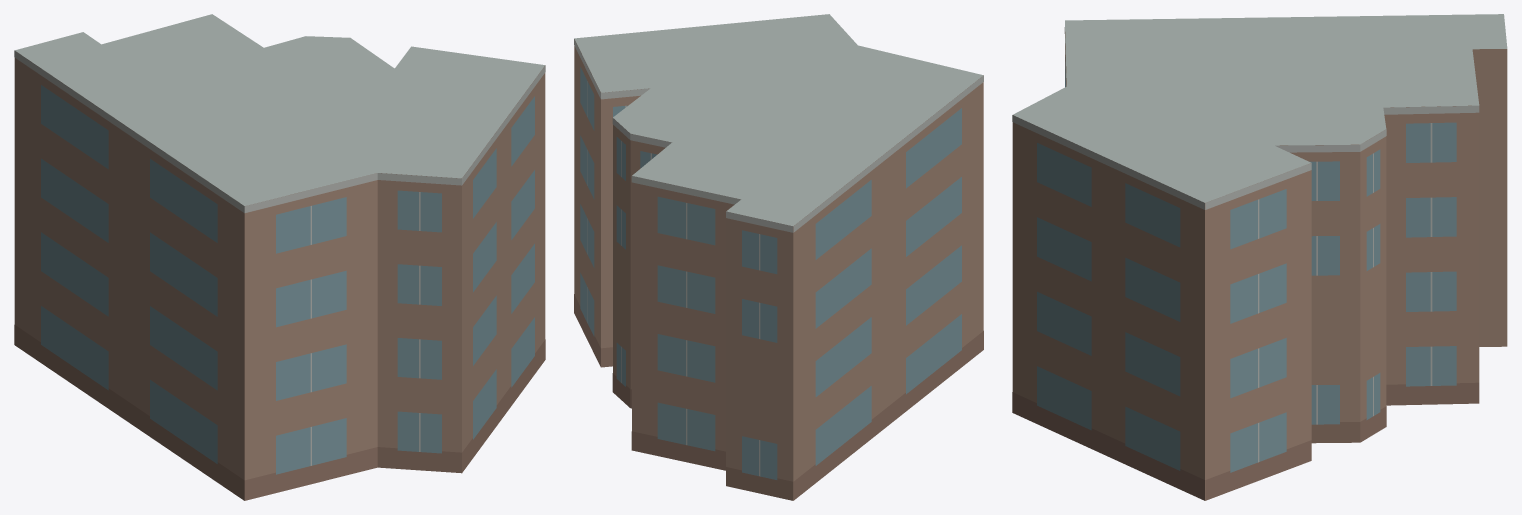
The model's file is survey-upis-32497193.glb.
The picture shows the model from 3 angles, left to right: view 1: azimuth 30°, elevation 25°; view 2: azimuth 150°, elevation 25°; view 3: azimuth 270°, elevation 25°; orthographic projection. The views are drawn at different scales.
Visible parts, largest first — view 1: survey-upis-32497193.tmp; view 2: survey-upis-32497193.tmp; view 3: survey-upis-32497193.tmp.
Part boxes in pixels (bbox=[...]): survey-upis-32497193.tmp: bbox=[14, 14, 545, 500]; survey-upis-32497193.tmp: bbox=[574, 14, 983, 500]; survey-upis-32497193.tmp: bbox=[1012, 14, 1507, 500].
Bounding box in the file's own units: 13.75 × 10.1 × 15.22.
